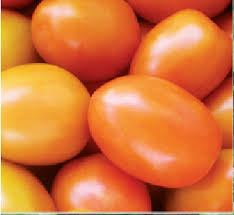tomato: (89, 73, 219, 185)
